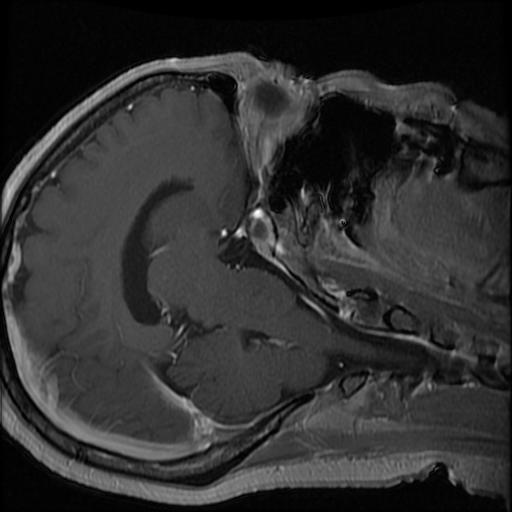pituitary tumour: (248, 208, 273, 255)
